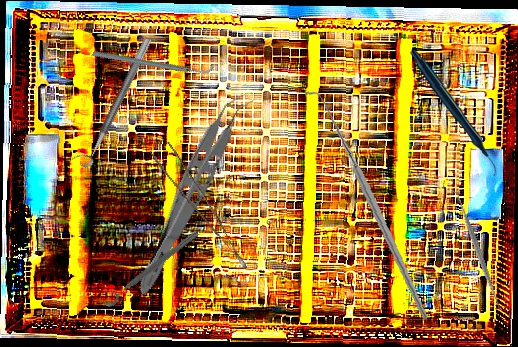Chopper: (90, 7, 215, 116)
Fixation Ring: (70, 31, 153, 171), (97, 222, 202, 310)
Handpiece: (407, 50, 500, 177)
Hook Surgical: (286, 90, 449, 322)
Spatula Surgical: (448, 186, 507, 314)
Tissue Forceps: (131, 84, 258, 306), (149, 137, 248, 282)
